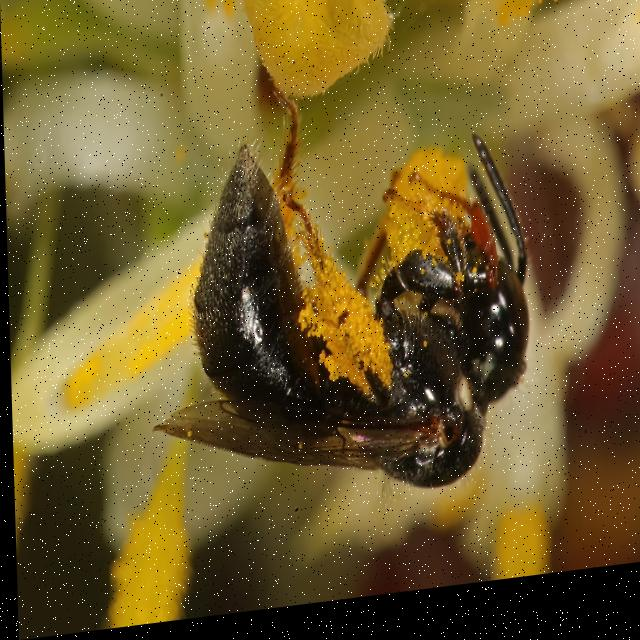Braunsapis: (140, 69, 556, 547)
